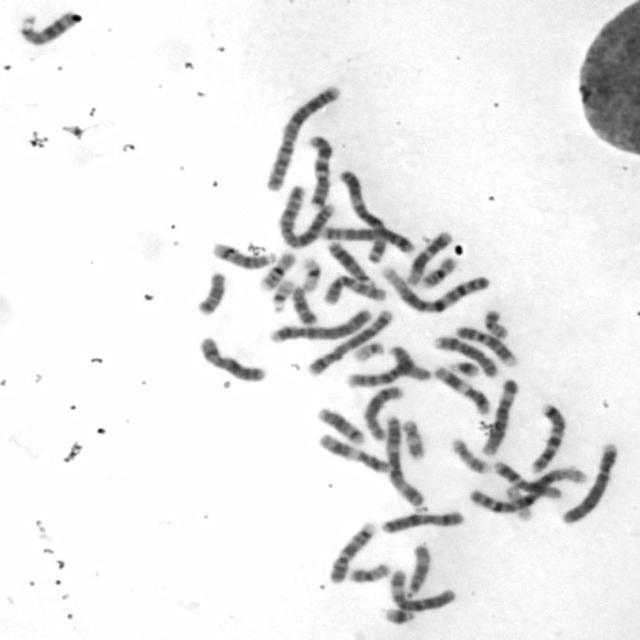A1: (464, 464, 590, 514), (378, 262, 488, 315)
A2: (261, 81, 344, 192), (276, 182, 338, 250)
A3: (336, 165, 390, 266), (382, 412, 428, 509)
B4: (558, 438, 620, 525), (265, 305, 374, 346)
B5: (304, 305, 394, 378), (318, 223, 419, 254)
C10: (341, 344, 415, 389), (320, 272, 388, 306)
C11: (315, 430, 391, 476), (430, 364, 492, 416)
C12: (490, 459, 563, 500), (403, 228, 453, 286)
C6: (477, 375, 520, 456), (386, 567, 458, 613)
C7: (526, 400, 568, 474), (304, 132, 334, 210)
C8: (431, 332, 500, 379), (359, 382, 406, 442)
C9: (328, 520, 377, 586), (453, 324, 519, 366)
D13: (16, 8, 80, 46), (324, 238, 373, 286)
D14: (207, 239, 278, 271), (313, 404, 366, 445)
D15: (387, 342, 432, 382), (403, 541, 432, 597)
E16: (256, 248, 298, 291), (418, 254, 459, 290)
E17: (446, 434, 491, 474), (399, 417, 427, 462)
E18: (193, 269, 228, 317), (288, 283, 320, 326)
F19: (504, 484, 536, 523), (298, 254, 322, 294)
F20: (345, 560, 392, 584), (480, 307, 511, 340)
G21: (380, 603, 417, 626), (446, 358, 482, 378)
G22: (267, 276, 297, 314), (350, 338, 387, 364)
X: (194, 333, 268, 385), (379, 508, 465, 534)
